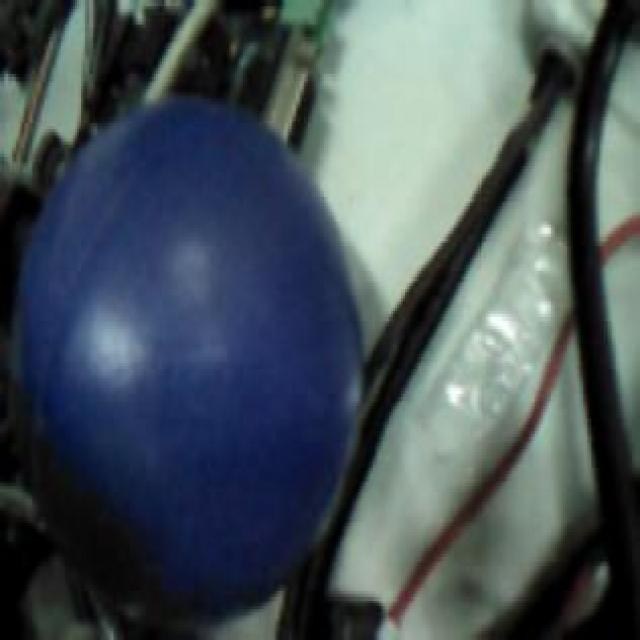BallPurple: (15, 101, 364, 622)
